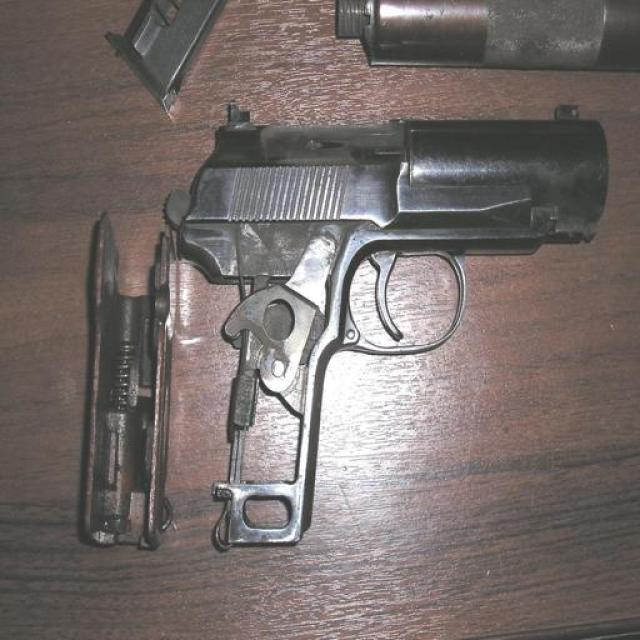pistol: (175, 102, 610, 545)
